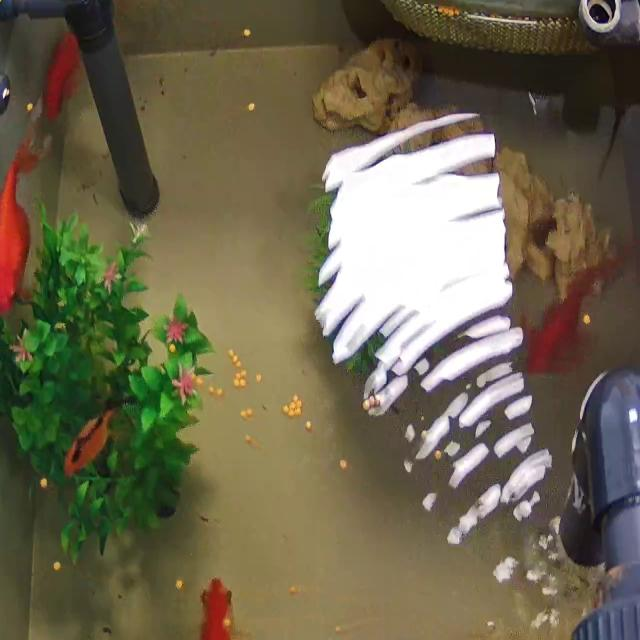fish: (524, 245, 638, 373), (0, 90, 40, 315), (53, 389, 141, 473), (193, 548, 238, 640), (42, 29, 84, 122)
